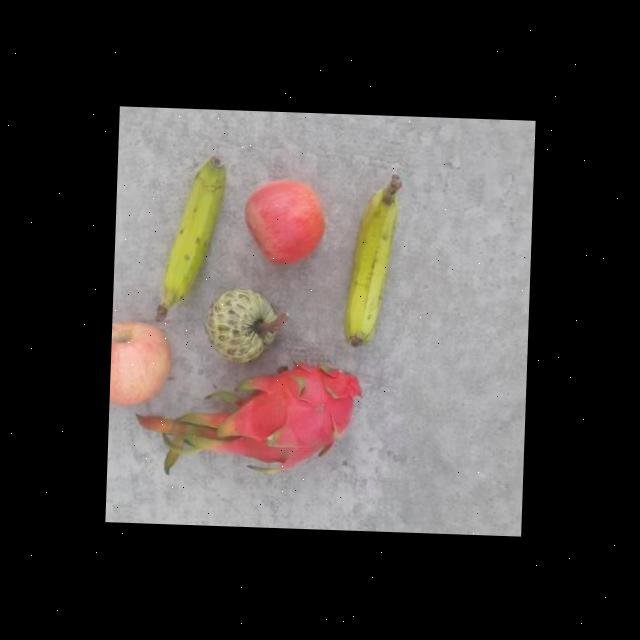Sakya fruit: (204, 286, 281, 366)
apple: (243, 174, 327, 265), (110, 317, 174, 409)
banana: (154, 152, 226, 326), (343, 177, 401, 350)
pitaya: (206, 357, 370, 475)
